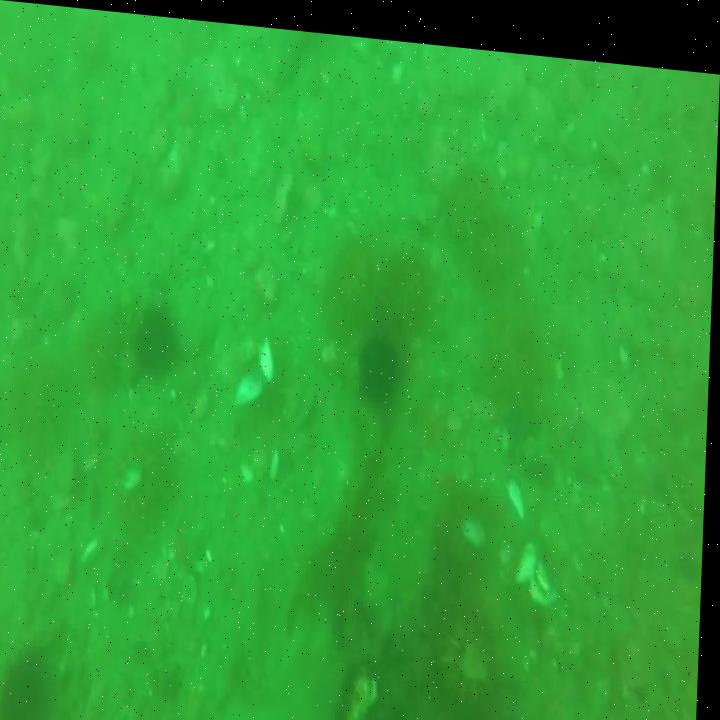echinus: (433, 590, 507, 713), (486, 295, 546, 411), (325, 228, 387, 327), (444, 145, 499, 256), (475, 198, 534, 295), (2, 647, 58, 720), (135, 305, 181, 373), (360, 331, 402, 391)
scallop: (518, 527, 564, 597), (232, 331, 278, 400), (466, 501, 492, 539), (506, 465, 528, 506), (124, 467, 145, 490)
